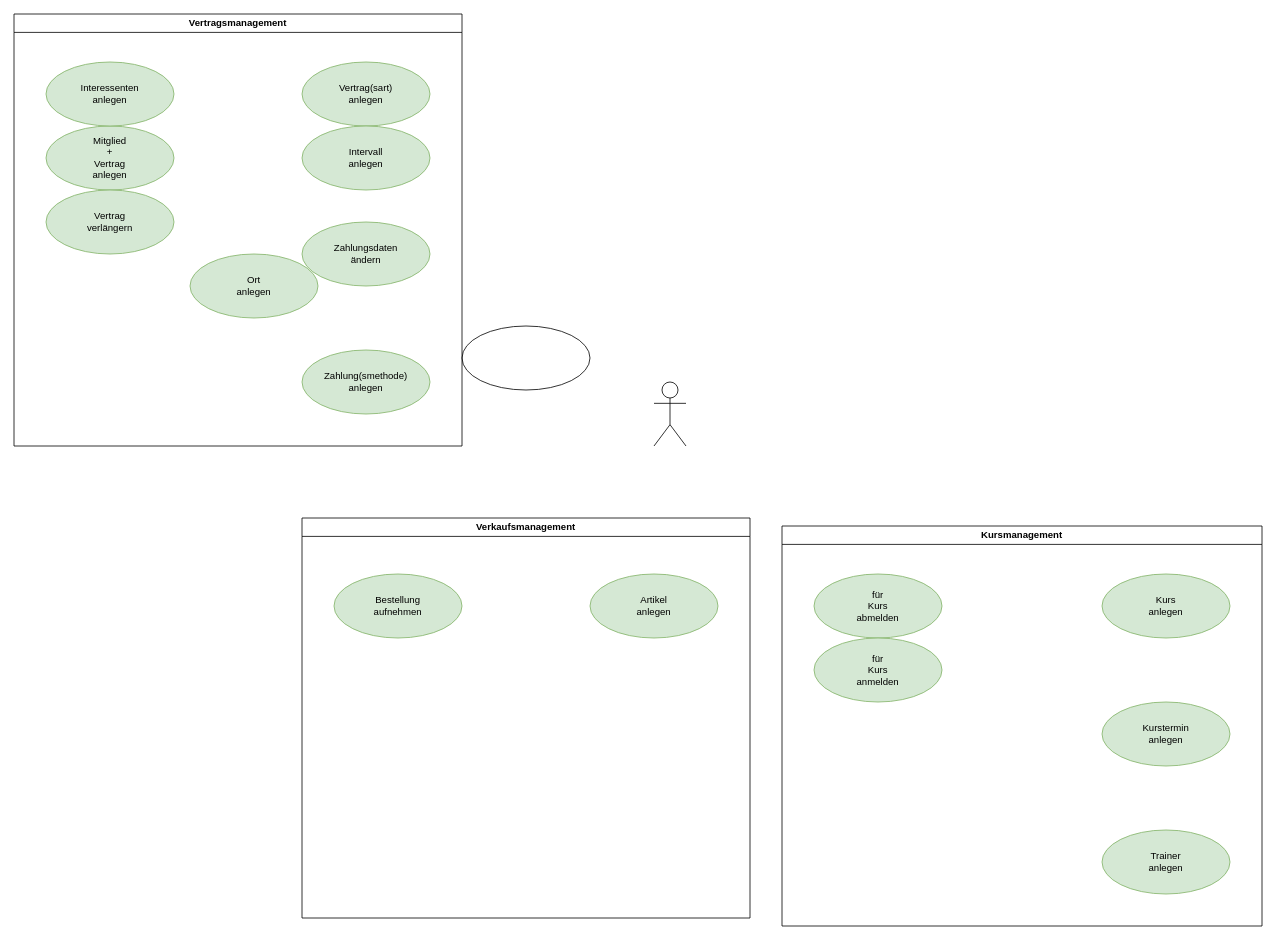
This 1276x940 diagram has some shape labels left out. The centre of each missing label's shape, as x and y in pixels:
"Actor" belongs at (x=669, y=413).
"Use Case" belongs at (x=525, y=357).
